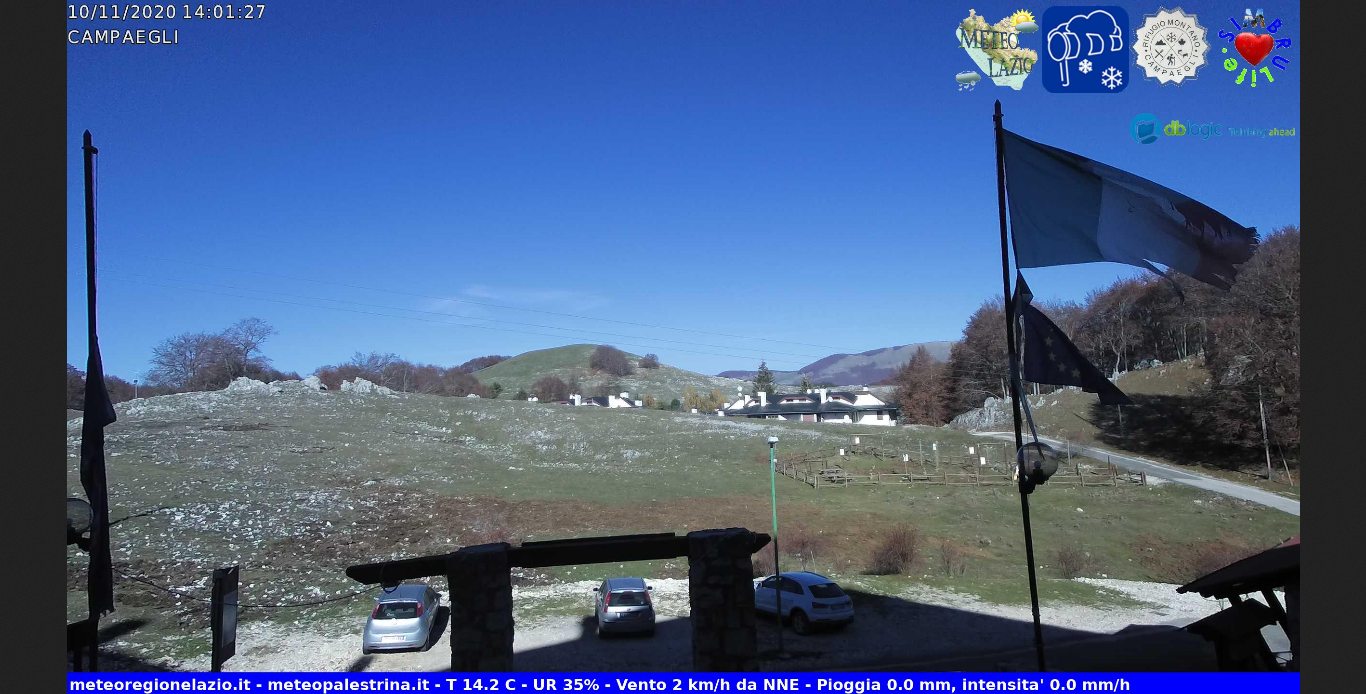maybe: (984, 96, 1268, 312), (1001, 293, 1154, 419)
no: (78, 118, 125, 634)
